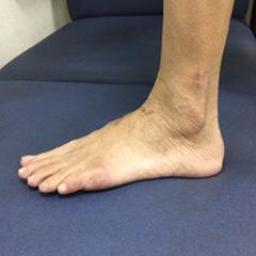Lateral View -Left Foot-: (12, 70, 236, 200)
